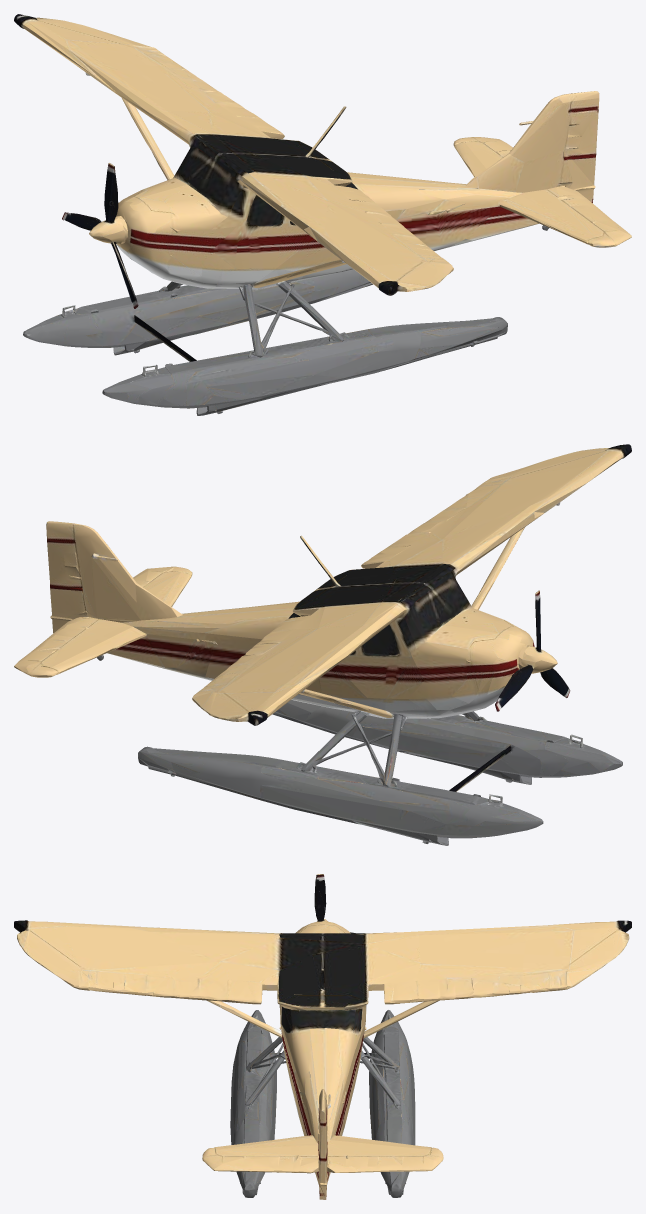
File: avion-brousse.glb
The picture shows the model from 3 angles, top to bottom: view 1: azimuth 30°, elevation 25°; view 2: azimuth 150°, elevation 25°; view 3: azimuth 270°, elevation 25°; orthographic projection. The views are drawn at different scales.
Size of the model in its own units: 1.57 by 0.6582 by 1.9.
1 material, 1 textured.
